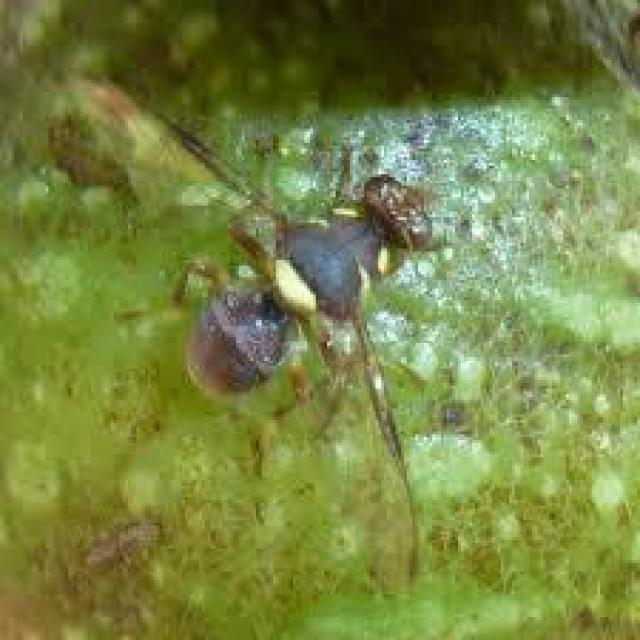Anthracnose: (76, 80, 426, 583)
